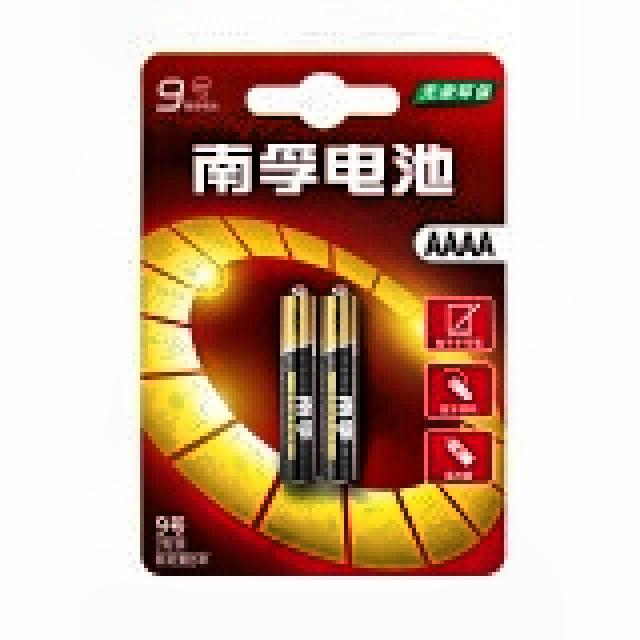Non-Valuable Waste - Batteries: (280, 285, 359, 483)
